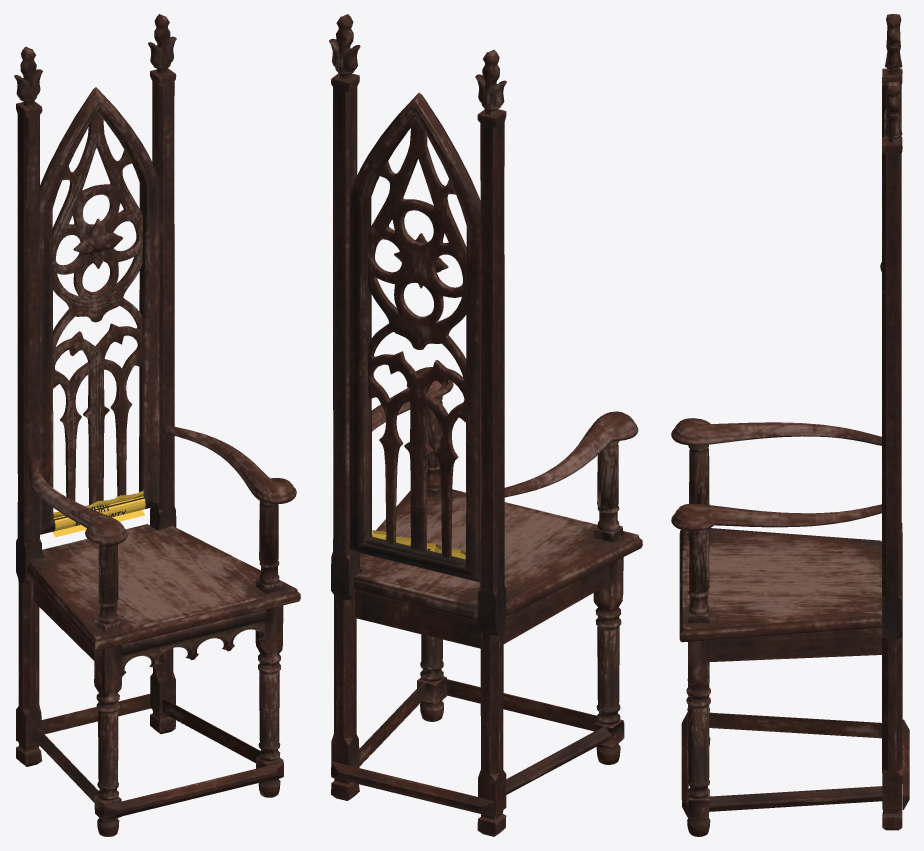
File: nyb_miracle_juror.glb
3 renders of one model, left to right at view 1: azimuth 30°, elevation 25°; view 2: azimuth 150°, elevation 25°; view 3: azimuth 270°, elevation 25°, orthographic. The views are drawn at different scales.
Visible parts, largest first — view 1: WoodenChair_01, stk_lbl_f54b18d83a.png; view 2: WoodenChair_01; view 3: WoodenChair_01.
Part boxes in pixels (x1,y1,x2,y2): WoodenChair_01: (14,14,300,836); stk_lbl_f54b18d83a.png: (52,490,145,537); WoodenChair_01: (329,14,642,836); WoodenChair_01: (671,14,909,836).
Size of the model in its own units: 0.6882 by 2.27 by 0.6585.
2 materials, 2 textured.
